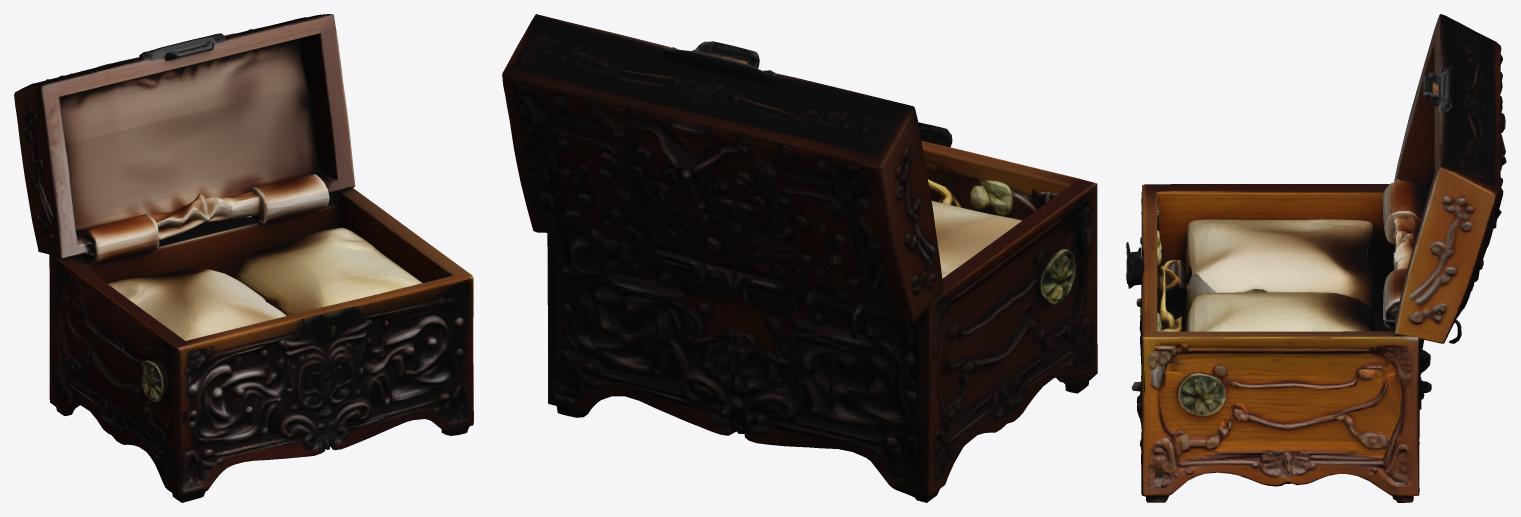
The model's file is wooden-jewelry-box-rustic.jpeg.glb.
3 renders of one model, left to right at view 1: azimuth 30°, elevation 25°; view 2: azimuth 150°, elevation 25°; view 3: azimuth 270°, elevation 25°, orthographic. The views are drawn at different scales.
Parts seen in each view (by area): view 1: world; view 2: world; view 3: world.
Boxes of the visible parts, bbox=[...] form: world: bbox=[14, 14, 473, 502]; world: bbox=[502, 14, 1097, 502]; world: bbox=[1126, 14, 1506, 502].
Bounding box in the file's own units: 0.9742 × 0.9992 × 0.998.
1 material, 1 textured.
